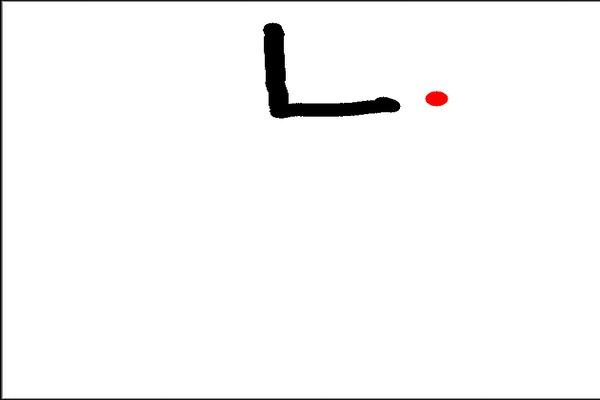L: (254, 13, 409, 126)
